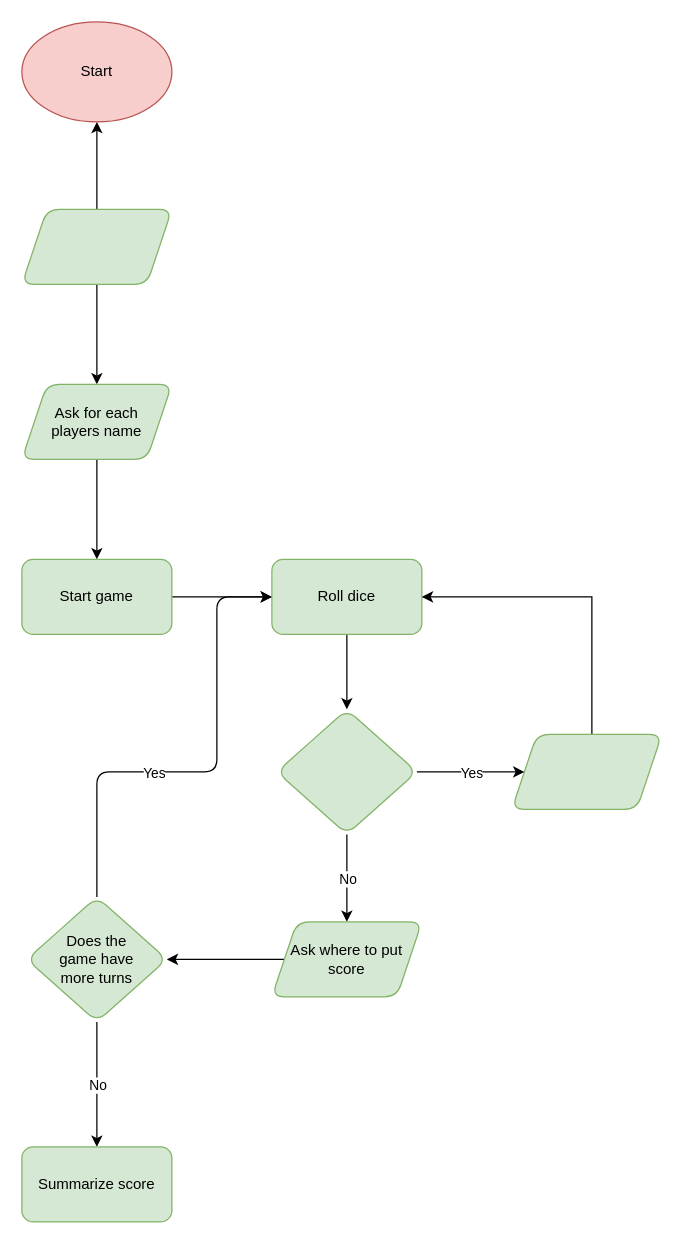
The diagram is 684 pixels wide and 1244 high, and some of its shapes have lost their labels. Each missing label, with the box of its shape:
Ask for number of players: (21, 208, 172, 284)
Ask which dice to save: (511, 733, 662, 809)
Does player have more rolls: (276, 708, 417, 834)
